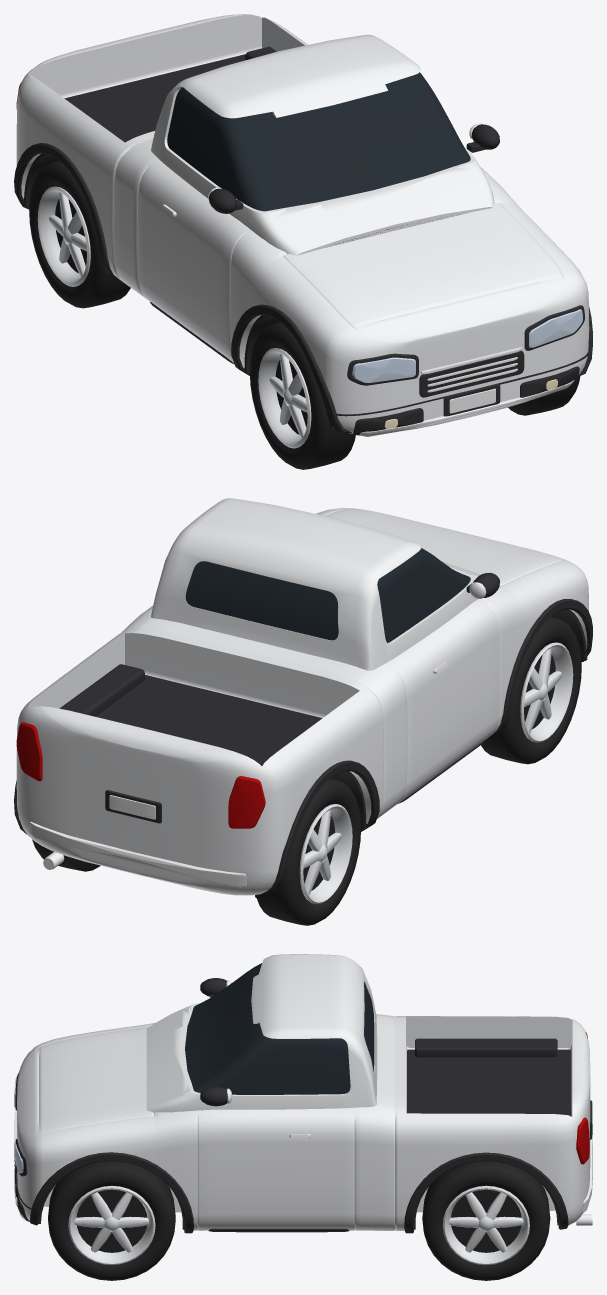
File: pickup.glb
3 renders of one model, top to bottom at view 1: azimuth 30°, elevation 25°; view 2: azimuth 150°, elevation 25°; view 3: azimuth 270°, elevation 25°, orthographic. The views are drawn at different scales.
Parts seen in each view (by area): view 1: body, glass, trim, wheel-front-right, wheel-back-right, lights, wheel-front-left; view 2: body, trim, glass, wheel-back-right, wheel-front-right, lights; view 3: body, trim, glass, wheel-front-left, wheel-back-left, lights.
Part boxes in pixels (x1,y1,x2,y2): body: [16, 14, 589, 433]; glass: [167, 72, 470, 246]; trim: [14, 46, 592, 436]; wheel-front-right: [249, 322, 355, 469]; wheel-back-right: [29, 160, 130, 308]; lights: [16, 82, 582, 428]; wheel-front-left: [508, 376, 580, 415]; body: [16, 498, 588, 895]; trim: [14, 573, 592, 897]; glass: [185, 548, 470, 642]; wheel-back-right: [256, 778, 361, 925]; wheel-front-right: [481, 616, 581, 764]; lights: [16, 722, 265, 828]; body: [17, 954, 590, 1230]; trim: [14, 978, 592, 1233]; glass: [185, 963, 374, 1094]; wheel-front-left: [48, 1161, 175, 1280]; wheel-back-left: [422, 1161, 550, 1280]; lights: [14, 1032, 589, 1207].
Bounding box in the file's own units: 1.52 × 1.46 × 3.17.
